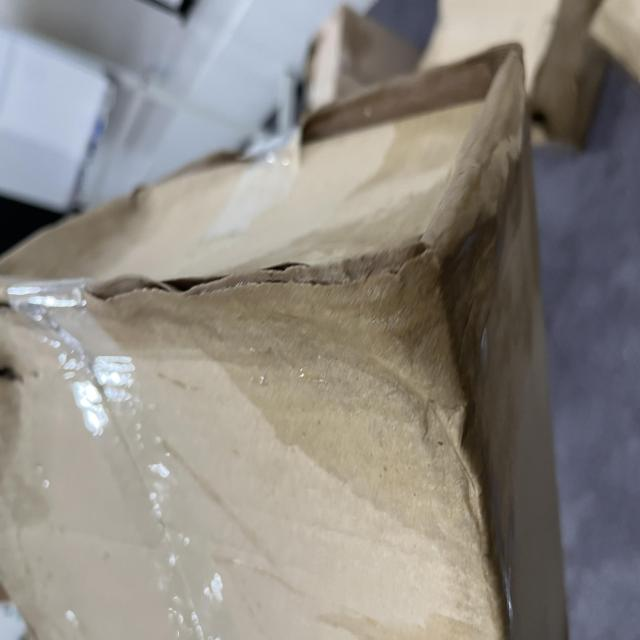wet: (2, 4, 432, 640)
